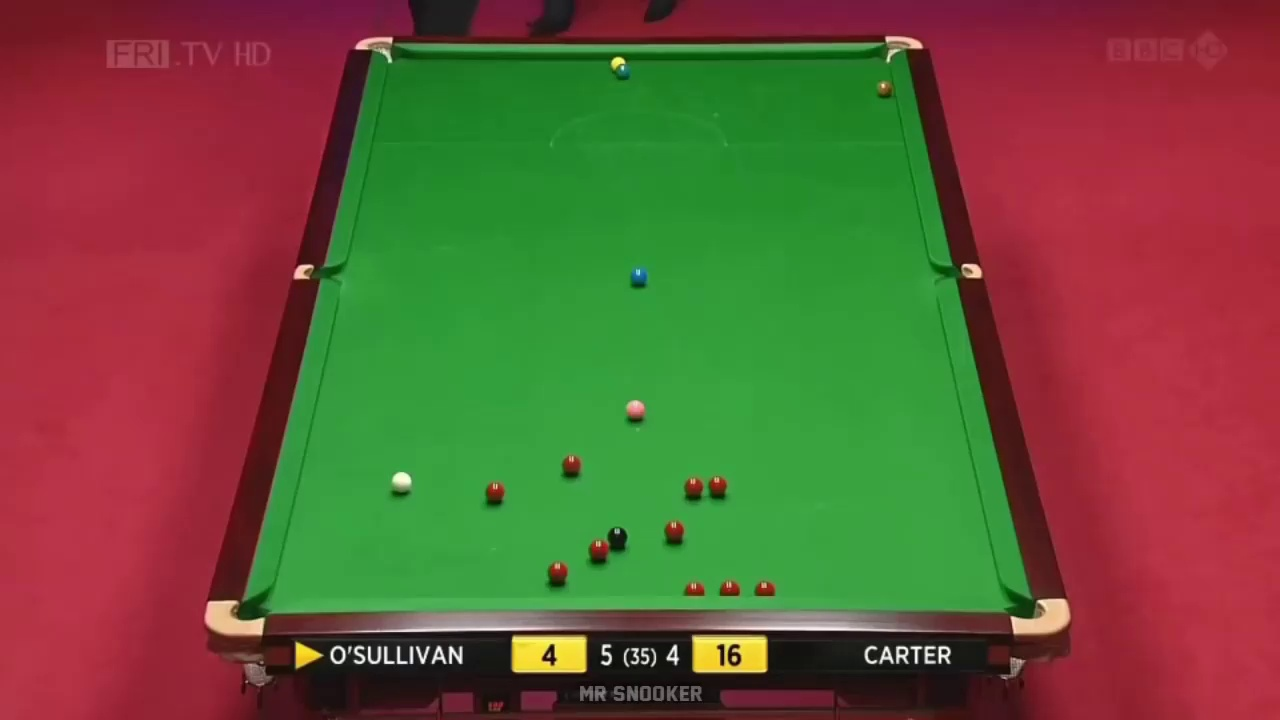ball: (623, 397, 648, 422), (389, 471, 413, 495), (682, 478, 705, 500), (663, 519, 684, 542), (548, 559, 568, 583), (563, 454, 582, 477), (484, 481, 504, 502), (609, 526, 628, 547), (875, 81, 895, 100), (589, 540, 608, 560), (630, 266, 648, 285), (616, 64, 632, 78)
